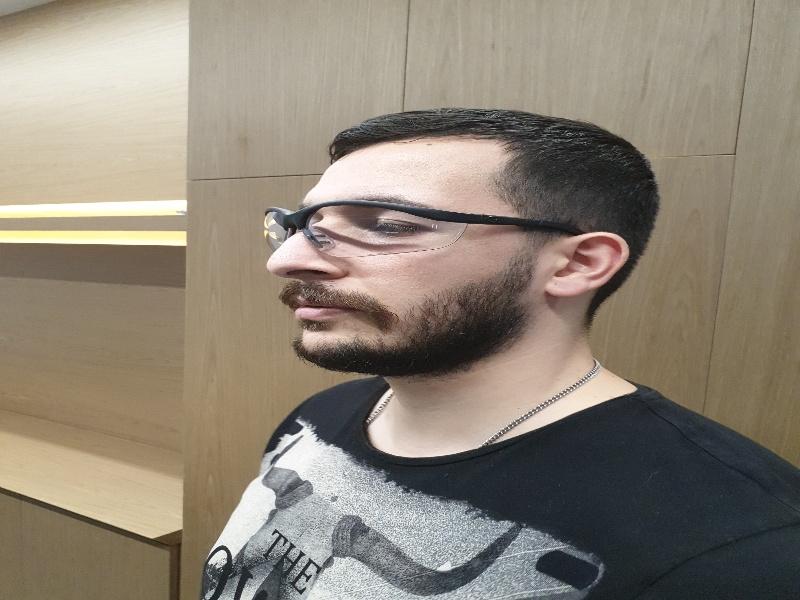Gozluk: (259, 200, 580, 266)
